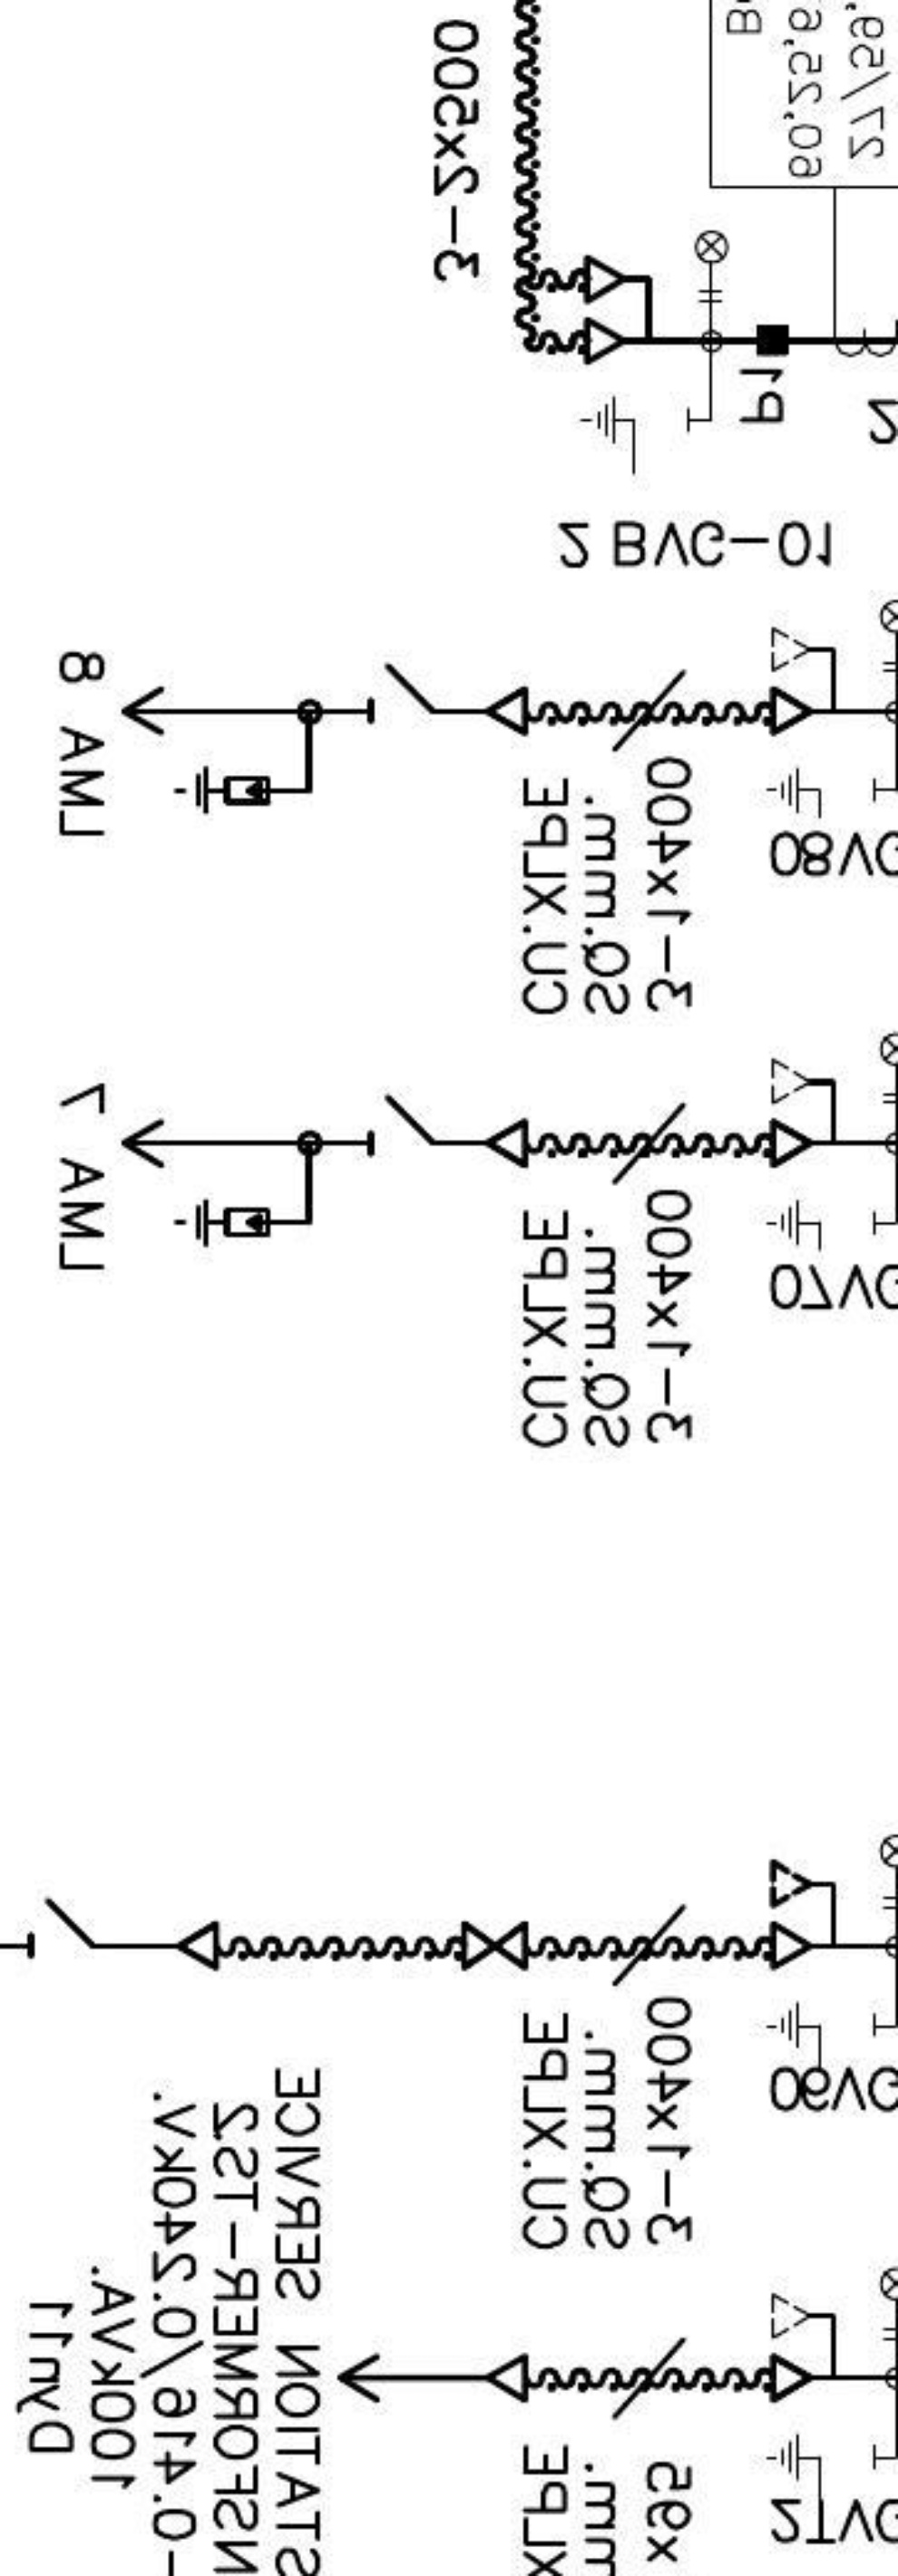22_ds_la_out: (118, 1094, 436, 1250), (118, 662, 436, 816)
22_gs: (581, 394, 694, 473), (763, 2433, 877, 2502), (765, 1999, 878, 2068), (765, 766, 877, 825), (766, 1196, 880, 1253)
22_ll: (692, 227, 730, 306)
terminator_double: (584, 251, 656, 368)
terminator_single: (484, 1115, 533, 1171), (174, 1917, 222, 1975), (484, 2348, 531, 2405), (484, 683, 531, 739)
terminator_splicing_kits: (459, 1920, 530, 1973)
terminator_w_future: (768, 2288, 842, 2405), (766, 1858, 839, 1975), (768, 1053, 840, 1170), (766, 623, 839, 739)
